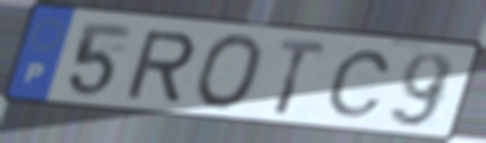5: (66, 20, 138, 99)
9: (385, 50, 460, 129)
C: (323, 47, 396, 120)
O: (191, 31, 266, 112)
R: (121, 28, 199, 103)
T: (272, 36, 331, 118)
